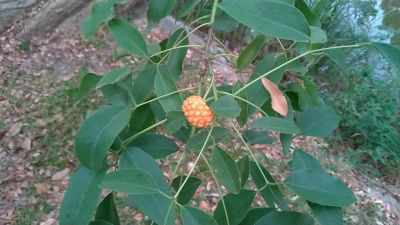eggs: (182, 95, 213, 128)
